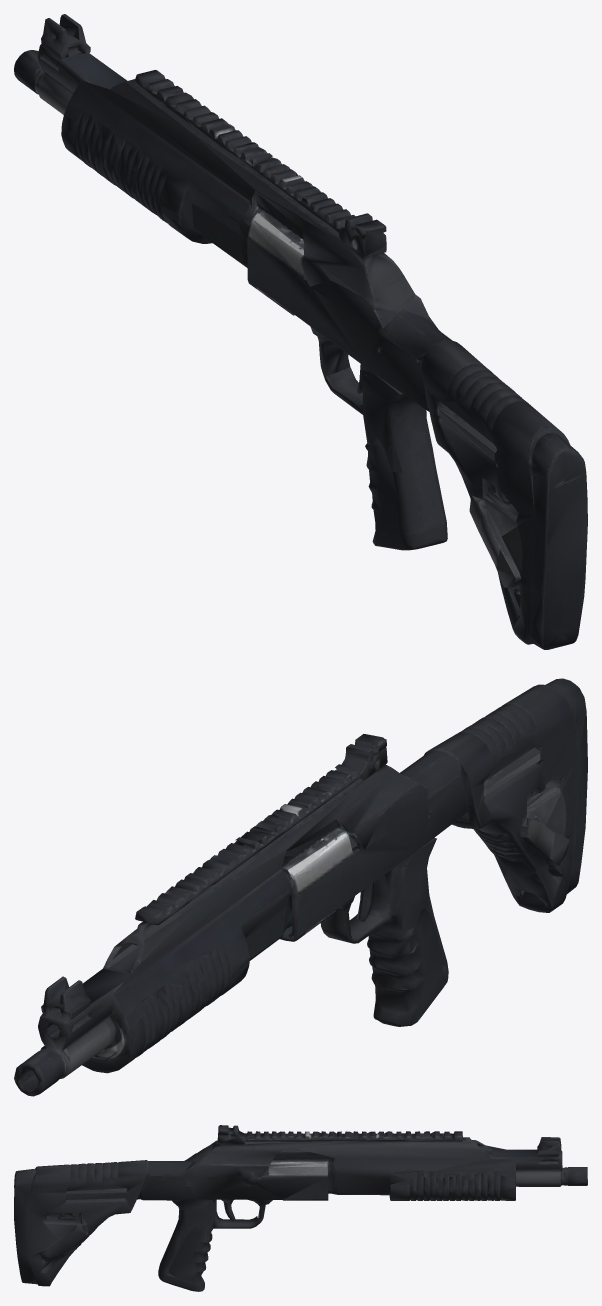
Rendered from sg_tidal.glb.
The picture shows the model from 3 angles, top to bottom: view 1: azimuth 30°, elevation 25°; view 2: azimuth 150°, elevation 25°; view 3: azimuth 270°, elevation 25°; orthographic projection. The views are drawn at different scales.
Visible parts, largest first — view 1: sg_tidal; view 2: sg_tidal; view 3: sg_tidal.
Part boxes in pixels (box(x1,y1,x2,y2)): sg_tidal: box(14, 14, 587, 649); sg_tidal: box(14, 678, 587, 1096); sg_tidal: box(14, 1125, 587, 1291).
Bounding box in the file's own units: 0.0779 × 0.3102 × 1.01.
1 material, 1 textured.
